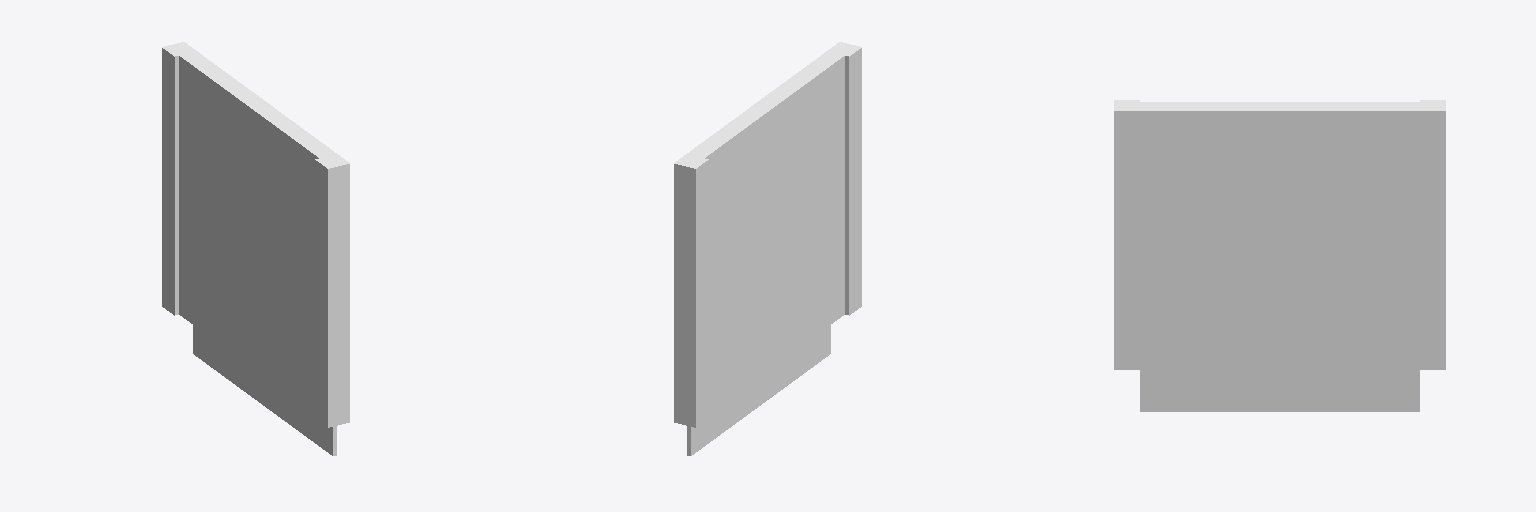
The model's file is Wall-W.obj.
3 views of the same model, side by side, from view 1: azimuth 30°, elevation 25°; view 2: azimuth 150°, elevation 25°; view 3: azimuth 270°, elevation 25° (orthographic).
Size of the model in its own units: 5 by 64 by 64.